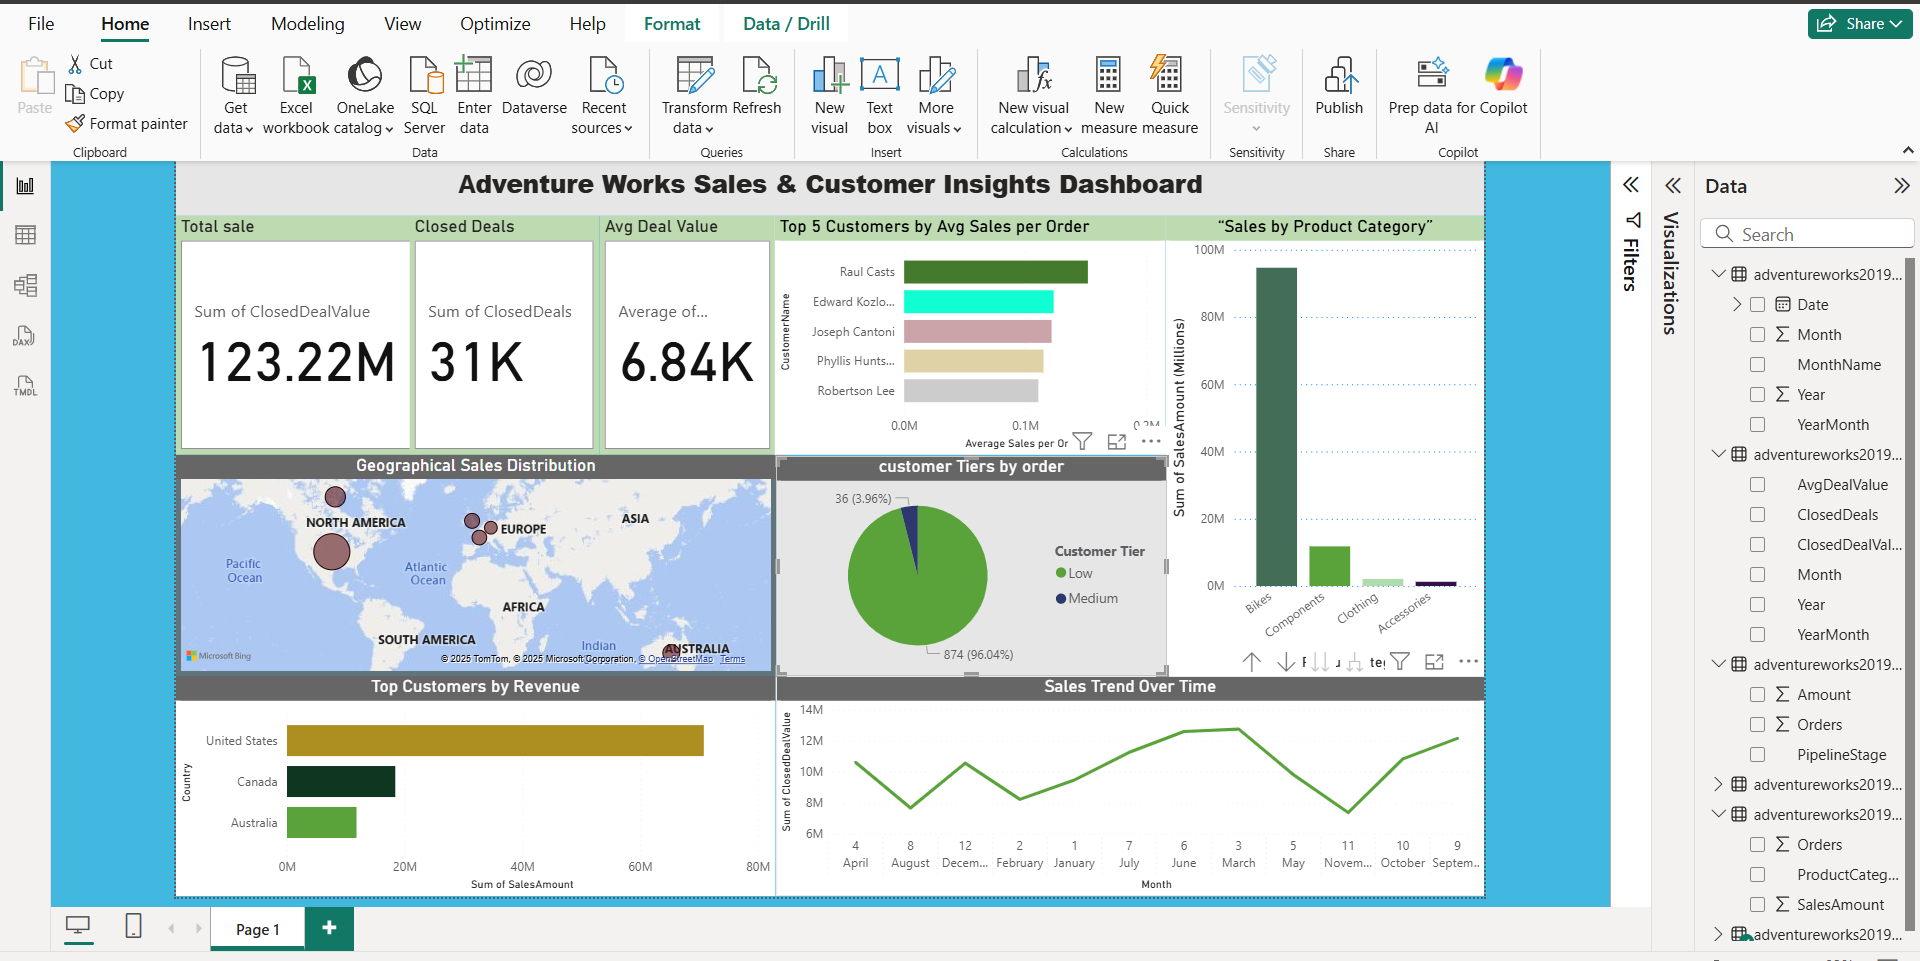

What the dashboard file says about the page in this screenshot:
{"tool":"powerbi","page":{"name":"Page 1","canvas":[1280,720],"ordinal":0},"visuals":[{"type":"cardVisual","title":"Total sale","fields":{"Data":["adventureworks2019 bi_vcloseddealsmonthly.ClosedDealValue"]},"box":[0,53.8,237.2,233.6],"z":0},{"type":"textbox","box":[0,0,1280.3,53.8],"z":1000},{"type":"cardVisual","title":"Closed Deals","fields":{"Data":["adventureworks2019 bi_vcloseddealsmonthly.ClosedDeals"]},"box":[228.7,53.8,185.9,233.6],"z":2000},{"type":"cardVisual","title":"Avg Deal Value","fields":{"Data":["adventureworks2019 bi_vcloseddealsmonthly.AvgDealValue"]},"box":[414.5,53.8,172.4,233.6],"z":3000},{"type":"map","title":"Geographical Sales Distribution","fields":{"Category":["adventureworks2019 bi_vsalesbycountry.Country"],"Size":["adventureworks2019 bi_vsalesbycountry.SalesAmount"]},"box":[0,287.4,587,216.4],"z":4000},{"type":"clusteredColumnChart","title":"“Sales by Product Category”","fields":{"Category":["adventureworks2019 bi_vsalesbyproductcategory.ProductCategory"],"Y":["adventureworks2019 bi_vsalesbyproductcategory.SalesAmount"]},"box":[968.5,53.8,311.8,450],"z":5000},{"type":"clusteredBarChart","title":"Top Customers by Revenue","fields":{"Category":["adventureworks2019 bi_vsalesbycountry.Country"],"Y":["adventureworks2019 bi_vsalesbycountry.SalesAmount"]},"box":[0,504.3,586.3,215.2],"z":6000},{"type":"lineChart","title":"Sales Trend Over Time","fields":{"Category":["adventureworks2019 bi_calendar.MonthName","adventureworks2019 bi_vcloseddealsmonthly.Month"],"Y":["adventureworks2019 bi_vcloseddealsmonthly.ClosedDealValue"]},"box":[587,503.8,693.3,215.2],"z":7000},{"type":"clusteredBarChart","title":"Top 5 Customers by Avg Sales per Order","fields":{"Category":["adventureworks2019 bi_vtopcustomers.CustomerName"],"Y":["adventureworks2019 bi_vtopcustomers.Average Sales per Order"]},"box":[585.7,53.8,382.7,233.6],"z":8000},{"type":"pieChart","title":"customer Tiers by order","fields":{"Category":["adventureworks2019 bi_vtopcustomers.Customer Tier"],"Y":["adventureworks2019 bi_vtopcustomers.Orders"]},"box":[587,288.6,382.7,215.2],"z":9000}]}

Visuals, with their boxes on the page's 1280x720 design canvas (x1, y1, x2, y2). These are canvas units, not pixel positions in the 1920x961 screenshot, which may show the page scaled, cropped or inside an application window:
"Total sale" cardVisual: x1=0, y1=54, x2=237, y2=287
textbox: x1=0, y1=0, x2=1280, y2=54
"Closed Deals" cardVisual: x1=229, y1=54, x2=415, y2=287
"Avg Deal Value" cardVisual: x1=414, y1=54, x2=587, y2=287
"Geographical Sales Distribution" map: x1=0, y1=287, x2=587, y2=504
"“Sales by Product Category”" clusteredColumnChart: x1=968, y1=54, x2=1280, y2=504
"Top Customers by Revenue" clusteredBarChart: x1=0, y1=504, x2=586, y2=720
"Sales Trend Over Time" lineChart: x1=587, y1=504, x2=1280, y2=719
"Top 5 Customers by Avg Sales per Order" clusteredBarChart: x1=586, y1=54, x2=968, y2=287
"customer Tiers by order" pieChart: x1=587, y1=289, x2=970, y2=504
